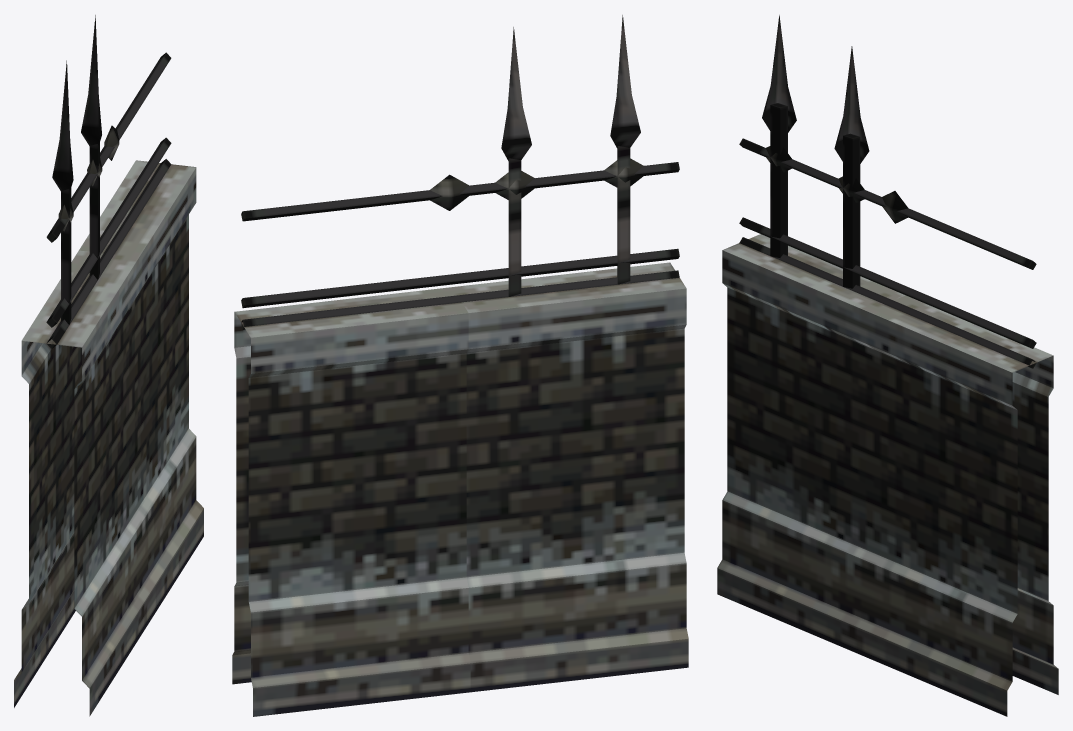
The model's file is EnvBdgMD_Snow_Seidoukikan_A_GrdWall_SL_LF_A_Fence_Start.FBX.
3 renders of one model, left to right at view 1: azimuth 30°, elevation 25°; view 2: azimuth 150°, elevation 25°; view 3: azimuth 270°, elevation 25°, orthographic. The views are drawn at different scales.
Visible parts, largest first — view 1: EnvBdgMD_Snow_Seidoukikan_A_GrdWall_SL_LF_A_Fence_Start; view 2: EnvBdgMD_Snow_Seidoukikan_A_GrdWall_SL_LF_A_Fence_Start; view 3: EnvBdgMD_Snow_Seidoukikan_A_GrdWall_SL_LF_A_Fence_Start.
Part boxes in pixels (x1=…): EnvBdgMD_Snow_Seidoukikan_A_GrdWall_SL_LF_A_Fence_Start: x1=14, y1=15, x2=203, y2=716; EnvBdgMD_Snow_Seidoukikan_A_GrdWall_SL_LF_A_Fence_Start: x1=232, y1=15, x2=688, y2=716; EnvBdgMD_Snow_Seidoukikan_A_GrdWall_SL_LF_A_Fence_Start: x1=717, y1=15, x2=1058, y2=716.
Bounding box in the file's own units: 235 × 445 × 235.
Materials: 1 (1 with a texture image).
